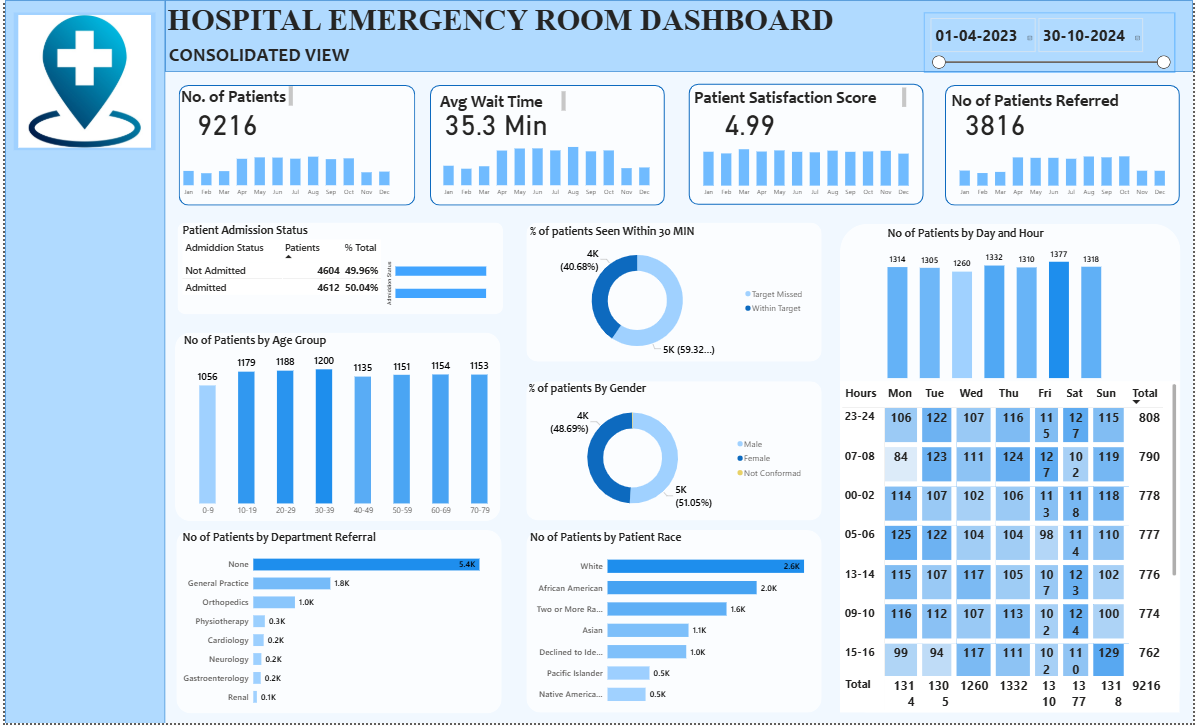

The page's visual inventory and layout, read from the dashboard file:
{"tool":"powerbi","page":{"name":"Consolidated View","canvas":[2300,1400],"ordinal":1},"visuals":[{"type":"shape","box":[0,0,310,1400],"z":0},{"type":"shape","box":[310.3,0,1988.9,139.3],"z":1000},{"type":"textbox","box":[310,0,1305,77.5],"z":2000},{"type":"textbox","box":[312,77.4,401.5,65.3],"z":3000},{"type":"slicer","fields":{"Values":["Date Table.Date"]},"box":[1777.8,24.2,486.2,116.1],"z":4000},{"type":"shape","box":[336.4,163.6,457.6,233.3],"z":6000},{"type":"textbox","box":[337.1,162.9,225.7,48.6],"z":7000},{"type":"columnChart","fields":{"Category":["Date Table.Month Name"],"Y":["Hospital ER_Data.No of Patients"]},"box":[325.6,263,437.1,125],"z":8000},{"type":"card","fields":{"Values":["Hospital ER_Data.No of Patients"]},"box":[337.1,188.6,188.6,94.3],"z":10000},{"type":"shape","box":[821.2,163.6,454.5,233.3],"z":11000},{"type":"columnChart","fields":{"Category":["Date Table.Month Name"],"Y":["Sum(Hospital ER_Data.Patient Waittime)"]},"box":[828.5,263,437.1,125],"z":12000},{"type":"card","fields":{"Values":["Hospital ER_Data.Avg Wait Time"]},"box":[836.4,187.9,227.3,93.9],"z":13000},{"type":"shape","box":[1818.2,163.6,454.5,233.3],"z":14000},{"type":"shape","box":[1324.3,162.9,454.3,234.3],"z":15000},{"type":"textbox","box":[1327.3,163.6,421.2,48.5],"z":16000},{"type":"card","fields":{"Values":["Avg(Hospital ER_Data.Patient Satisfaction Score)"]},"box":[1327.3,187.9,227.3,93.9],"z":17000},{"type":"columnChart","fields":{"Category":["Date Table.Month Name"],"Y":["Avg(Hospital ER_Data.Patient Satisfaction Score)"]},"box":[1332.8,266.1,435.4,123.4],"z":18000},{"type":"textbox","box":[830,172.9,260,48.6],"z":19000},{"type":"textbox","box":[1825.7,168.6,380,54.3],"z":20000},{"type":"card","fields":{"Values":["Hospital ER_Data.No of Patient Referred"]},"box":[1827.5,197.5,175,75],"z":21000},{"type":"shape","box":[335,430,630,177.5],"z":22000},{"type":"columnChart","fields":{"Category":["Date Table.Month Name"],"Y":["Hospital ER_Data.No of Patient Referred"]},"box":[1828.6,263.7,435.4,125.8],"z":23000},{"type":"pivotTable","title":"Patient Admission Status","fields":{"Rows":["Hospital ER_Data.Admiddion Status"],"Values":["Hospital ER_Data.No of Patients1","Hospital ER_Data.No of Patients"]},"box":[338.5,430.8,623.1,176.9],"z":24000},{"type":"barChart","fields":{"Category":["Hospital ER_Data.Admiddion Status"],"Y":["Hospital ER_Data.No of Patients"]},"box":[733.3,482.1,256.4,125.6],"z":25000},{"type":"shape","box":[330,642.5,630,365],"z":26000},{"type":"clusteredColumnChart","fields":{"Category":["Hospital ER_Data.Age Group"],"Y":["Hospital ER_Data.No of Patients"]},"box":[340,642.5,630,365],"z":27000},{"type":"shape","box":[332.5,1025,630,355],"z":28000},{"type":"clusteredBarChart","fields":{"Category":["Hospital ER_Data.Department Referral"],"Y":["Hospital ER_Data.No of Patients"]},"box":[337.5,1025,612.5,355],"z":29000},{"type":"shape","box":[1007.7,430.8,571.8,269.2],"z":30000},{"type":"donutChart","title":"% of patients Seen Within 30 MIN","fields":{"Category":["Hospital ER_Data.Wait time Status"],"Y":["Hospital ER_Data.No of Patients"]},"box":[1010.3,433.3,546.2,269.2],"z":31000},{"type":"shape","box":[1007.7,738.5,571.8,269.2],"z":32000},{"type":"donutChart","title":"% of patients By Gender","fields":{"Category":["Hospital ER_Data.Patient Gender","Hospital ER_Data.Wait time Status"],"Y":["Hospital ER_Data.No of Patients"]},"box":[1007.7,738.5,546.2,269.2],"z":33000},{"type":"shape","box":[1007.7,1025.6,571.8,353.8],"z":34000},{"type":"clusteredBarChart","fields":{"Y":["Hospital ER_Data.No of Patients"],"Category":["Hospital ER_Data.Patient Race"]},"box":[1010.3,1025.6,569.2,353.8],"z":35000},{"type":"shape","box":[1615.4,433.3,659,946.2],"z":36000},{"type":"pivotTable","fields":{"Rows":["Hospital ER_Data.Waittime Interval"],"Columns":["Date Table.Day Name"],"Values":["Hospital ER_Data.No of Patients"]},"box":[1615.4,738.5,656.4,641],"z":37000},{"type":"columnChart","title":"No of Patients by Day and Hour","fields":{"Category":["Date Table.Day Name"],"Y":["Hospital ER_Data.No of Patients"]},"box":[1702.6,438.5,425.6,300],"z":38000},{"type":"image","box":[17.9,23.1,274.4,266.7],"z":39000}]}

Visuals, with their boxes in screenshot pixels (x1, y1, x2, y2), scaled from the page's 2300x1400 canvas onto the 1196x726 screenshot:
shape: left=0, top=0, right=161, bottom=725
shape: left=161, top=0, right=1195, bottom=72
textbox: left=161, top=0, right=840, bottom=40
textbox: left=162, top=40, right=371, bottom=74
slicer - Date Table.Date: left=924, top=13, right=1177, bottom=73
shape: left=175, top=85, right=413, bottom=206
textbox: left=175, top=84, right=293, bottom=110
columnChart - Date Table.Month Name x Hospital ER_Data.No of Patients: left=169, top=136, right=397, bottom=201
card - Hospital ER_Data.No of Patients: left=175, top=98, right=273, bottom=147
shape: left=427, top=85, right=663, bottom=206
columnChart - Date Table.Month Name x Sum(Hospital ER_Data.Patient Waittime): left=431, top=136, right=658, bottom=201
card - Hospital ER_Data.Avg Wait Time: left=435, top=97, right=553, bottom=146
shape: left=945, top=85, right=1182, bottom=206
shape: left=689, top=84, right=925, bottom=206
textbox: left=690, top=85, right=909, bottom=110
card - Avg(Hospital ER_Data.Patient Satisfaction Score): left=690, top=97, right=808, bottom=146
columnChart - Date Table.Month Name x Avg(Hospital ER_Data.Patient Satisfaction Score): left=693, top=138, right=919, bottom=202
textbox: left=432, top=90, right=567, bottom=115
textbox: left=949, top=87, right=1147, bottom=116
card - Hospital ER_Data.No of Patient Referred: left=950, top=102, right=1041, bottom=141
shape: left=174, top=223, right=502, bottom=315
columnChart - Date Table.Month Name x Hospital ER_Data.No of Patient Referred: left=951, top=137, right=1177, bottom=202
"Patient Admission Status" pivotTable: left=176, top=223, right=500, bottom=315
barChart - Hospital ER_Data.Admiddion Status x Hospital ER_Data.No of Patients: left=381, top=250, right=515, bottom=315
shape: left=172, top=333, right=499, bottom=522
clusteredColumnChart - Hospital ER_Data.Age Group x Hospital ER_Data.No of Patients: left=177, top=333, right=504, bottom=522
shape: left=173, top=532, right=500, bottom=716
clusteredBarChart - Hospital ER_Data.Department Referral x Hospital ER_Data.No of Patients: left=176, top=532, right=494, bottom=716
shape: left=524, top=223, right=821, bottom=363
"% of patients Seen Within 30 MIN" donutChart: left=525, top=225, right=809, bottom=364
shape: left=524, top=383, right=821, bottom=523
"% of patients By Gender" donutChart: left=524, top=383, right=808, bottom=523
shape: left=524, top=532, right=821, bottom=715
clusteredBarChart - Hospital ER_Data.No of Patients x Hospital ER_Data.Patient Race: left=525, top=532, right=821, bottom=715
shape: left=840, top=225, right=1183, bottom=715
pivotTable - Hospital ER_Data.Waittime Interval x Date Table.Day Name: left=840, top=383, right=1181, bottom=715
"No of Patients by Day and Hour" columnChart: left=885, top=227, right=1107, bottom=383
image: left=9, top=12, right=152, bottom=150
